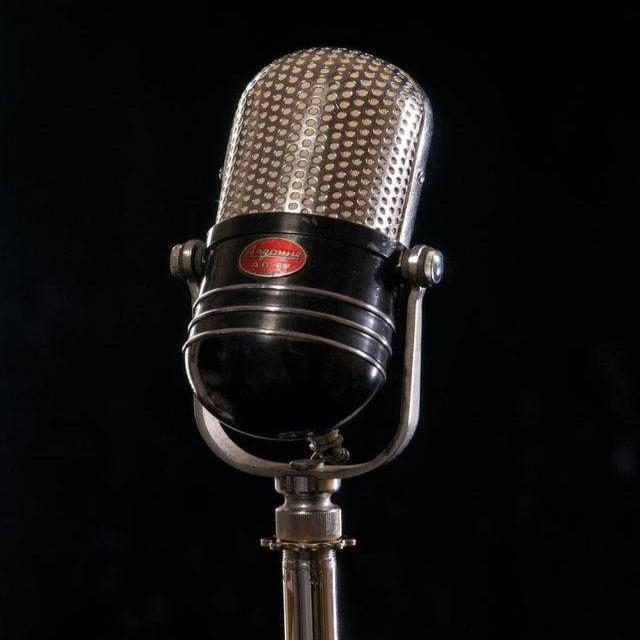microphone: (171, 49, 442, 634)
